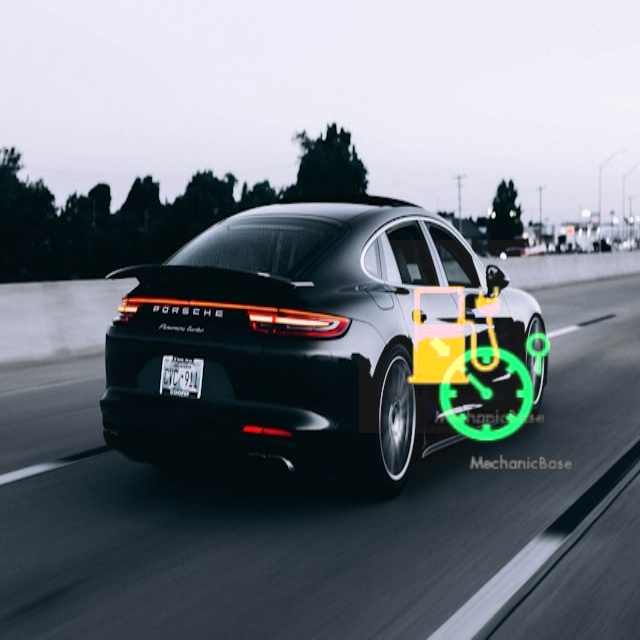symbol: (359, 240, 552, 433), (400, 299, 579, 478)
